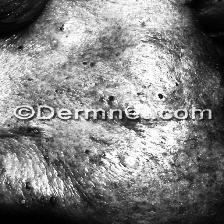Benign Marking or Mole: (17, 182, 60, 210), (27, 125, 46, 137), (152, 91, 168, 103)
